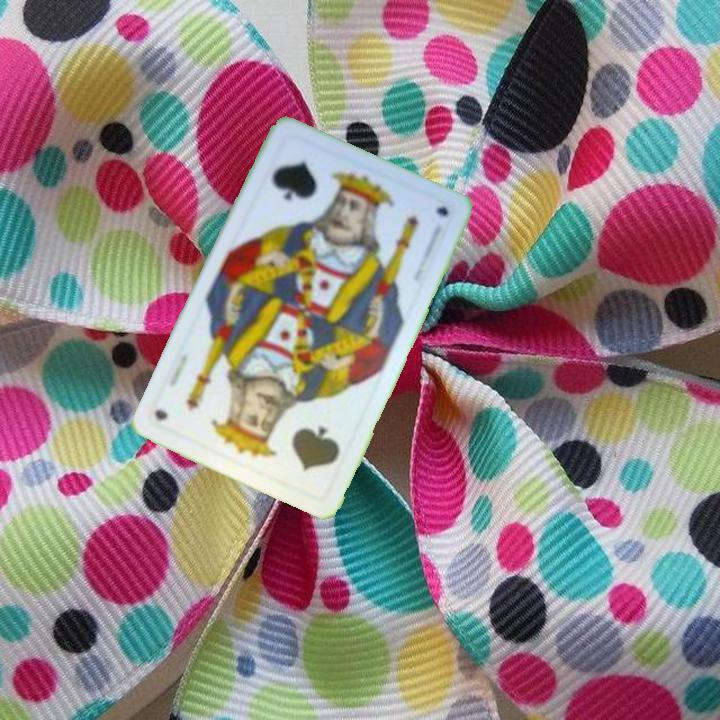s_k.png: (234, 384, 359, 502), (245, 131, 369, 248)
